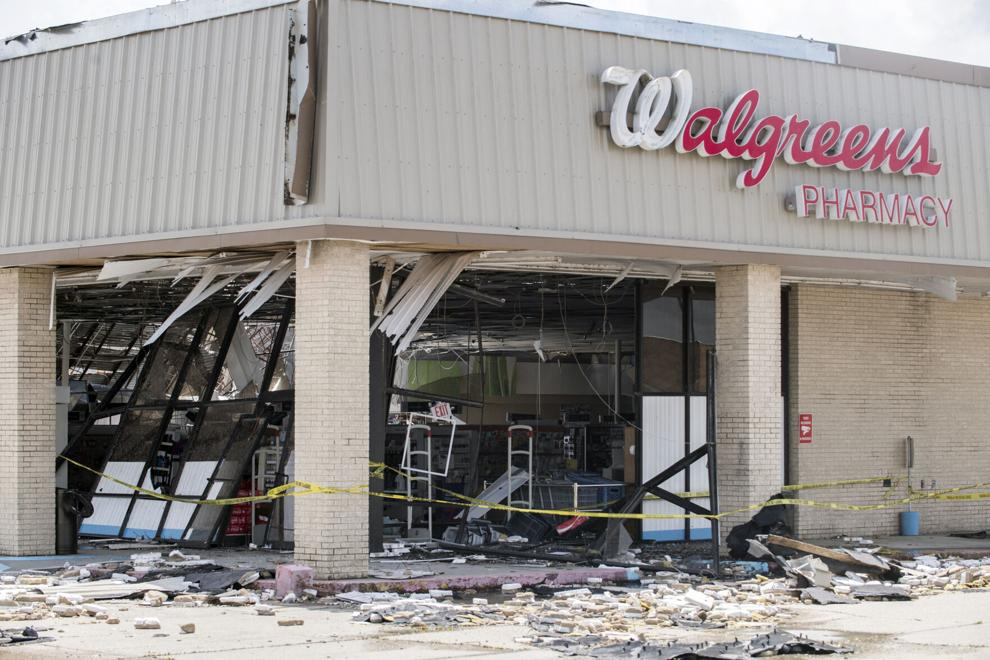destroyed: (9, 9, 990, 640)
